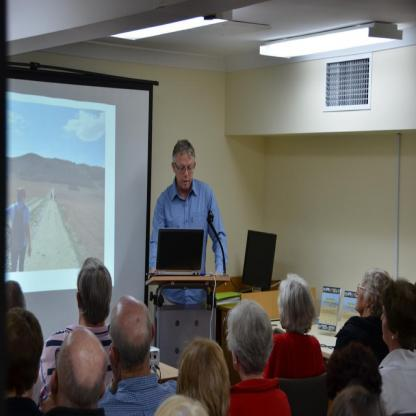board: (146, 228, 204, 278)
